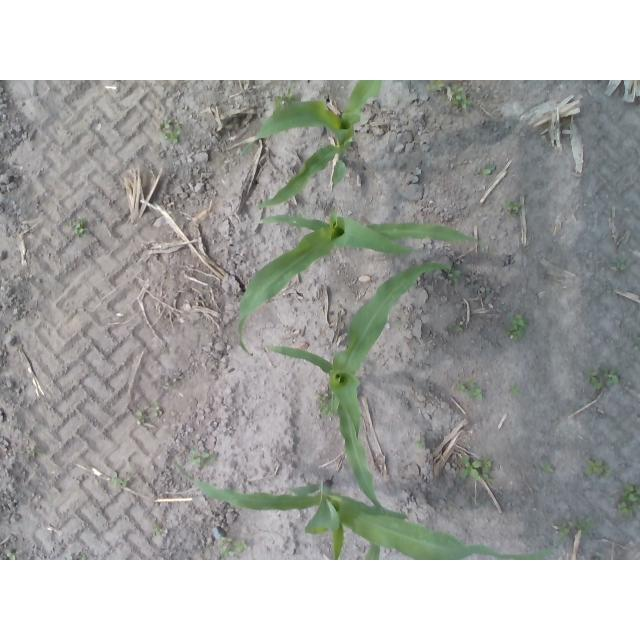Maize: (271, 262, 445, 511), (179, 464, 542, 560), (239, 215, 480, 357), (242, 81, 382, 207)
Weeds: (591, 366, 621, 389), (460, 457, 492, 478), (619, 483, 640, 512), (457, 380, 482, 400), (160, 119, 180, 142), (508, 314, 526, 339), (190, 447, 210, 465), (584, 458, 605, 475), (575, 518, 593, 537), (219, 538, 235, 559), (454, 93, 471, 108), (112, 472, 129, 485), (317, 392, 328, 412), (428, 81, 445, 93), (507, 200, 522, 212), (612, 258, 627, 270), (448, 269, 464, 280), (71, 222, 83, 236), (484, 163, 497, 175), (136, 411, 148, 424), (558, 522, 570, 535), (451, 85, 464, 96), (4, 549, 16, 560), (236, 541, 248, 552), (151, 405, 162, 416), (508, 384, 520, 393), (453, 321, 463, 331), (415, 437, 425, 447), (154, 525, 163, 532)
